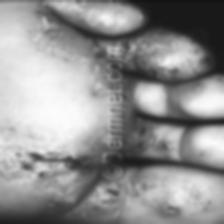Non-Cancerous Skin Condition: (0, 128, 95, 194), (16, 0, 90, 70), (108, 182, 210, 224), (138, 43, 206, 88), (134, 116, 186, 151)
